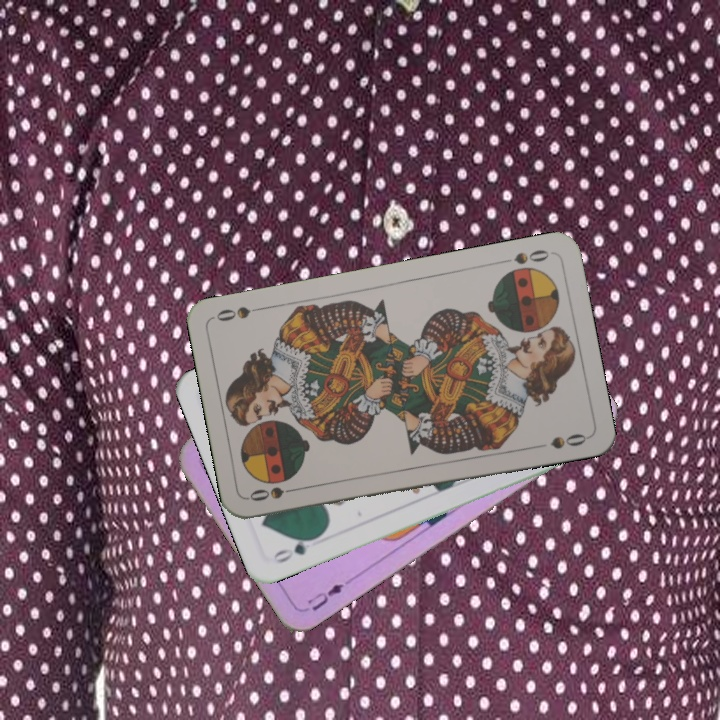EU: (303, 579, 347, 614)
GO: (269, 531, 323, 566)
SO: (245, 482, 304, 504), (496, 245, 552, 267)
